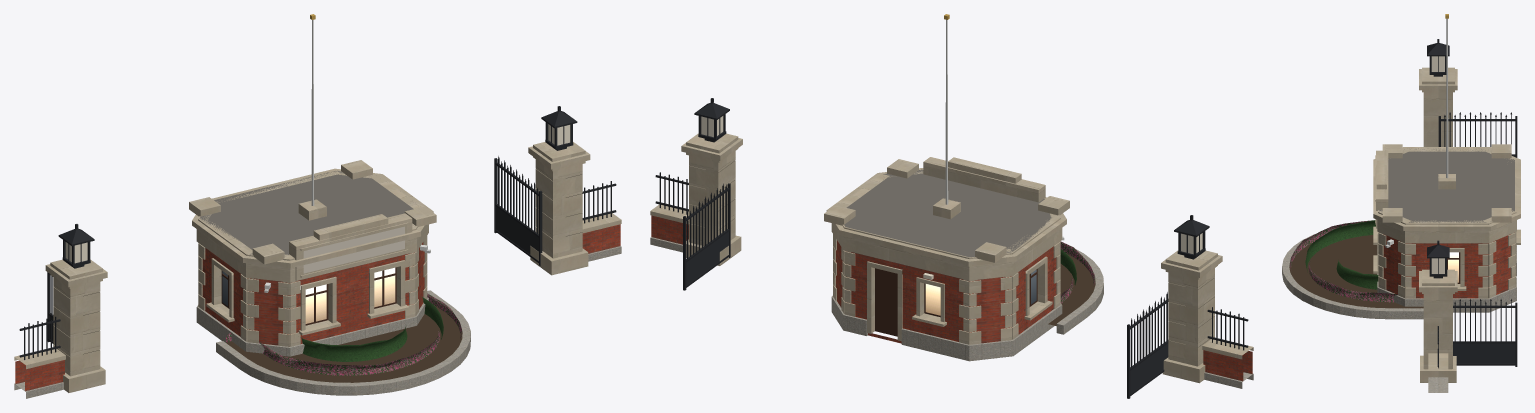
Rendered from campus_gate.glb.
The picture shows the model from 3 angles, left to right: view 1: azimuth 30°, elevation 25°; view 2: azimuth 150°, elevation 25°; view 3: azimuth 270°, elevation 25°; orthographic projection. The views are drawn at different scales.
Parts seen in each view (by area): view 1: ck_trim, wz_vc_gt, gt_wall, gt_base, gt_flower, gt_hedge, PLATE_FACE_GATE_OUT, gt_glass, gt_lamp; view 2: ck_trim, wz_vc_gt, gt_wall, gt_base, gt_lamp, gt_glass; view 3: wz_vc_gt, ck_trim, gt_base, gt_wall, gt_hedge, gt_flower, gt_lamp.
Part boxes in pixels (bbox=[...]): ck_trim: bbox=[14, 142, 621, 392]; wz_vc_gt: bbox=[19, 14, 616, 382]; gt_wall: bbox=[15, 224, 620, 391]; gt_base: bbox=[14, 246, 621, 398]; gt_flower: bbox=[225, 293, 461, 375]; gt_hedge: bbox=[300, 297, 443, 361]; PLATE_FACE_GATE_OUT: bbox=[303, 226, 404, 273]; gt_glass: bbox=[222, 267, 395, 323]; gt_lamp: bbox=[65, 124, 570, 263]; ck_trim: bbox=[650, 133, 1253, 383]; wz_vc_gt: bbox=[655, 14, 1248, 398]; gt_wall: bbox=[651, 215, 1252, 381]; gt_base: bbox=[650, 237, 1253, 388]; gt_lamp: bbox=[701, 116, 1202, 279]; gt_glass: bbox=[925, 269, 1036, 315]; wz_vc_gt: bbox=[1289, 14, 1517, 368]; ck_trim: bbox=[1373, 67, 1520, 382]; gt_base: bbox=[1282, 234, 1516, 392]; gt_wall: bbox=[1383, 234, 1510, 298]; gt_hedge: bbox=[1305, 220, 1378, 289]; gt_flower: bbox=[1290, 220, 1397, 302]; gt_lamp: bbox=[1431, 56, 1444, 273].
Bounding box in the file's own units: 20 × 9.72 × 8.1.
9 materials, 5 textured.
